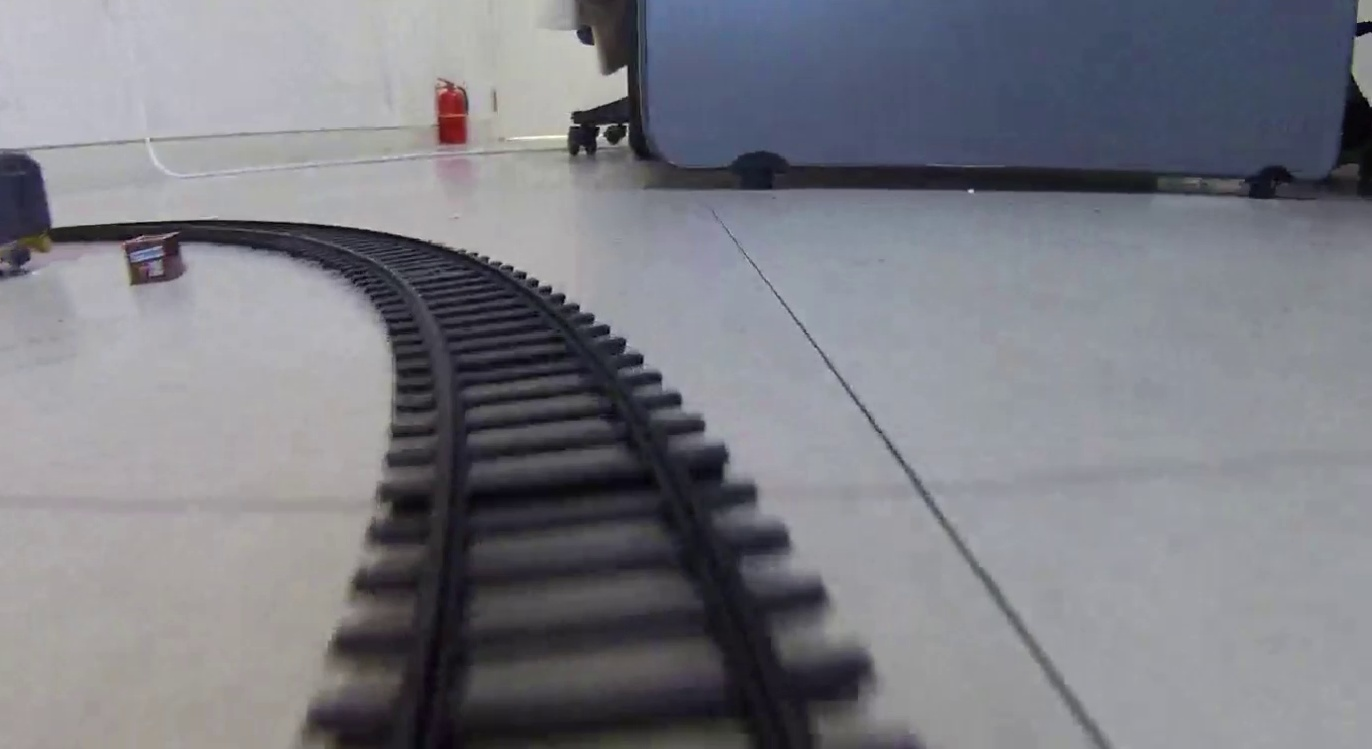box: (122, 232, 188, 284)
